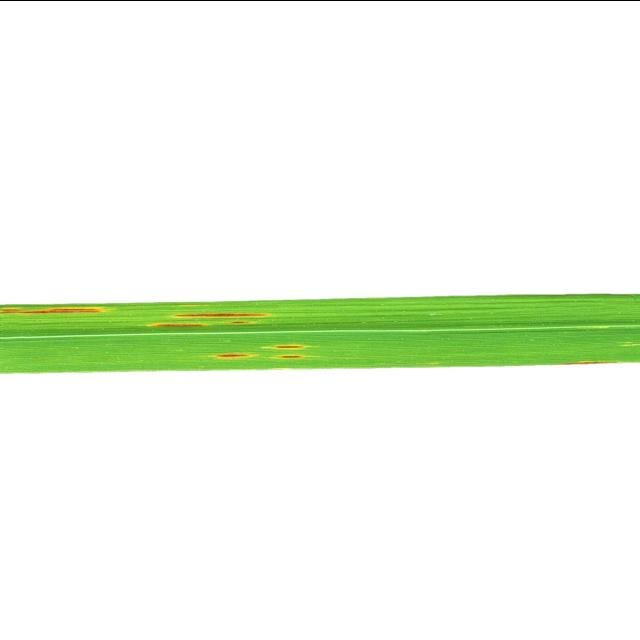Narrow brown: (0, 204, 640, 506)
